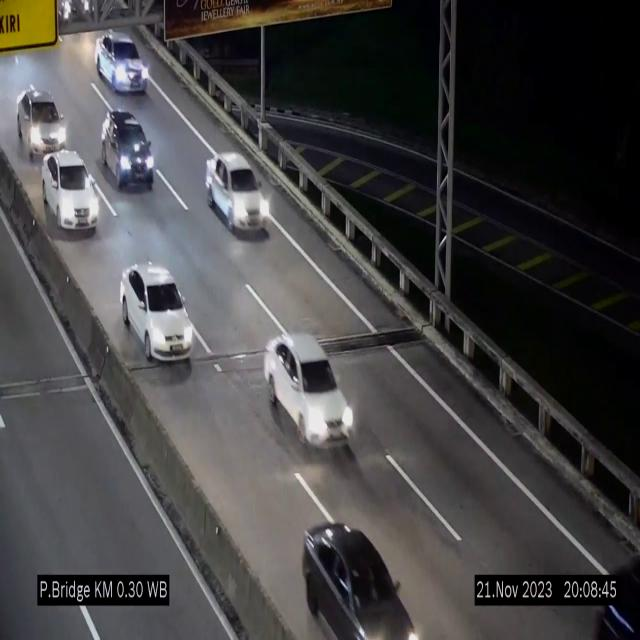Car: (295, 514, 401, 640), (264, 333, 354, 448), (122, 263, 194, 361), (205, 153, 270, 234), (42, 148, 98, 230), (101, 110, 155, 190), (18, 87, 67, 159), (96, 30, 148, 92)
